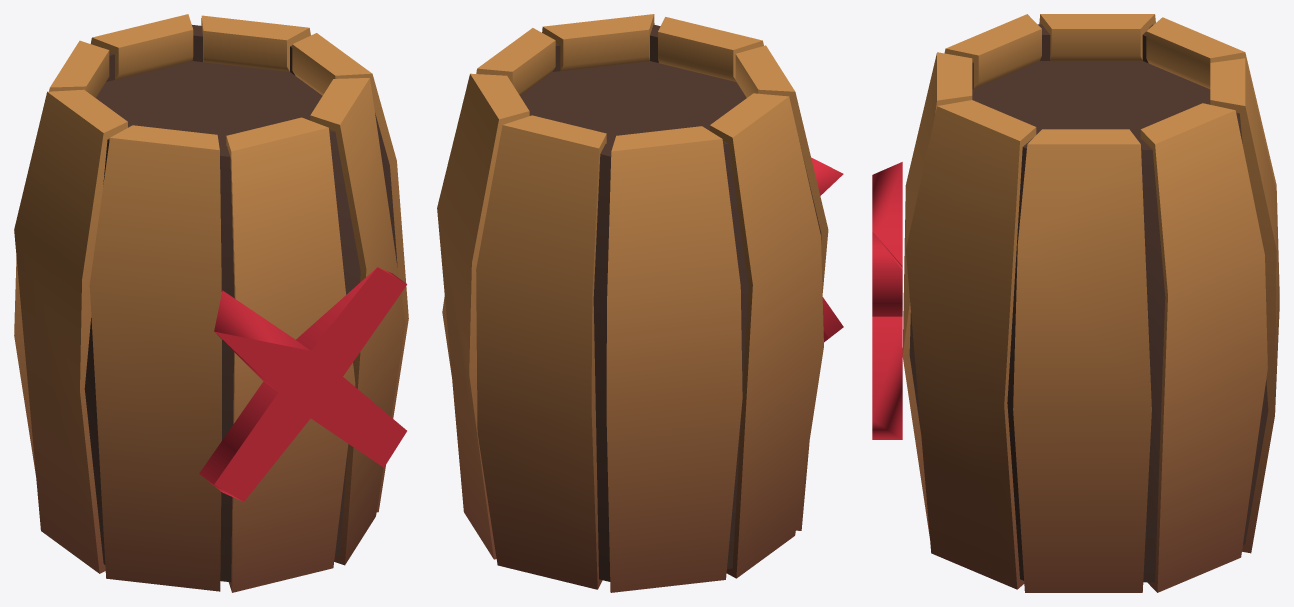
3 renders of one model, left to right at view 1: azimuth 30°, elevation 25°; view 2: azimuth 150°, elevation 25°; view 3: azimuth 270°, elevation 25°, orthographic.
Parts seen in each view (by area): view 1: LOD 3_4746937021995407784_ff341511bebd94b45835b85c6ba3315b; view 2: LOD 3_4746937021995407784_ff341511bebd94b45835b85c6ba3315b; view 3: LOD 3_4746937021995407784_ff341511bebd94b45835b85c6ba3315b.
Part boxes in pixels (x1,y1,x2,y2): LOD 3_4746937021995407784_ff341511bebd94b45835b85c6ba3315b: (14, 14, 408, 592); LOD 3_4746937021995407784_ff341511bebd94b45835b85c6ba3315b: (437, 14, 843, 592); LOD 3_4746937021995407784_ff341511bebd94b45835b85c6ba3315b: (872, 14, 1279, 592).
Size of the model in its own units: 0.7621 by 0.995 by 0.8237.
